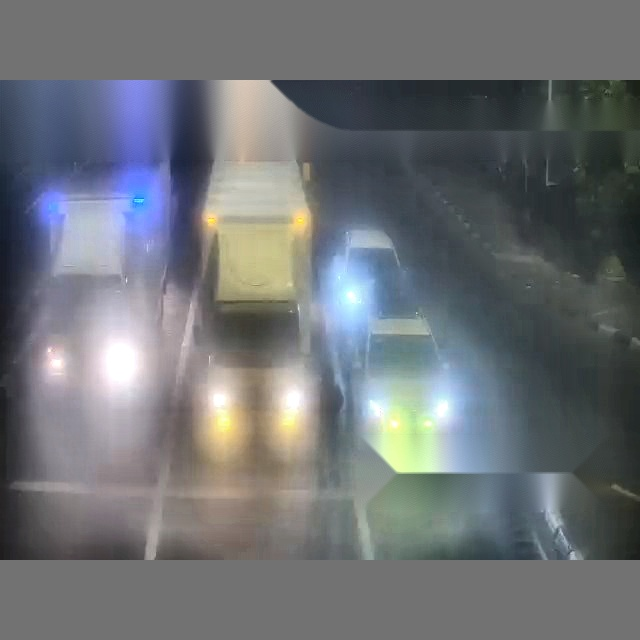Truk: (205, 158, 312, 314)
